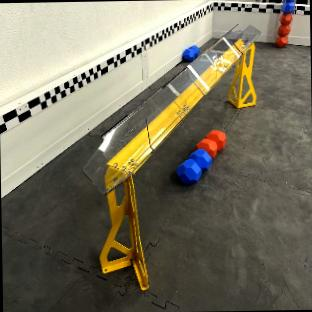V5_BLUE: (177, 149, 211, 182), (182, 45, 199, 59), (282, 0, 295, 13)
V5_RED: (196, 130, 225, 157), (276, 11, 292, 47)
